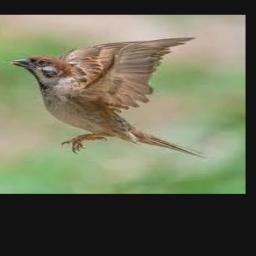Sparrow: (8, 37, 207, 157)
